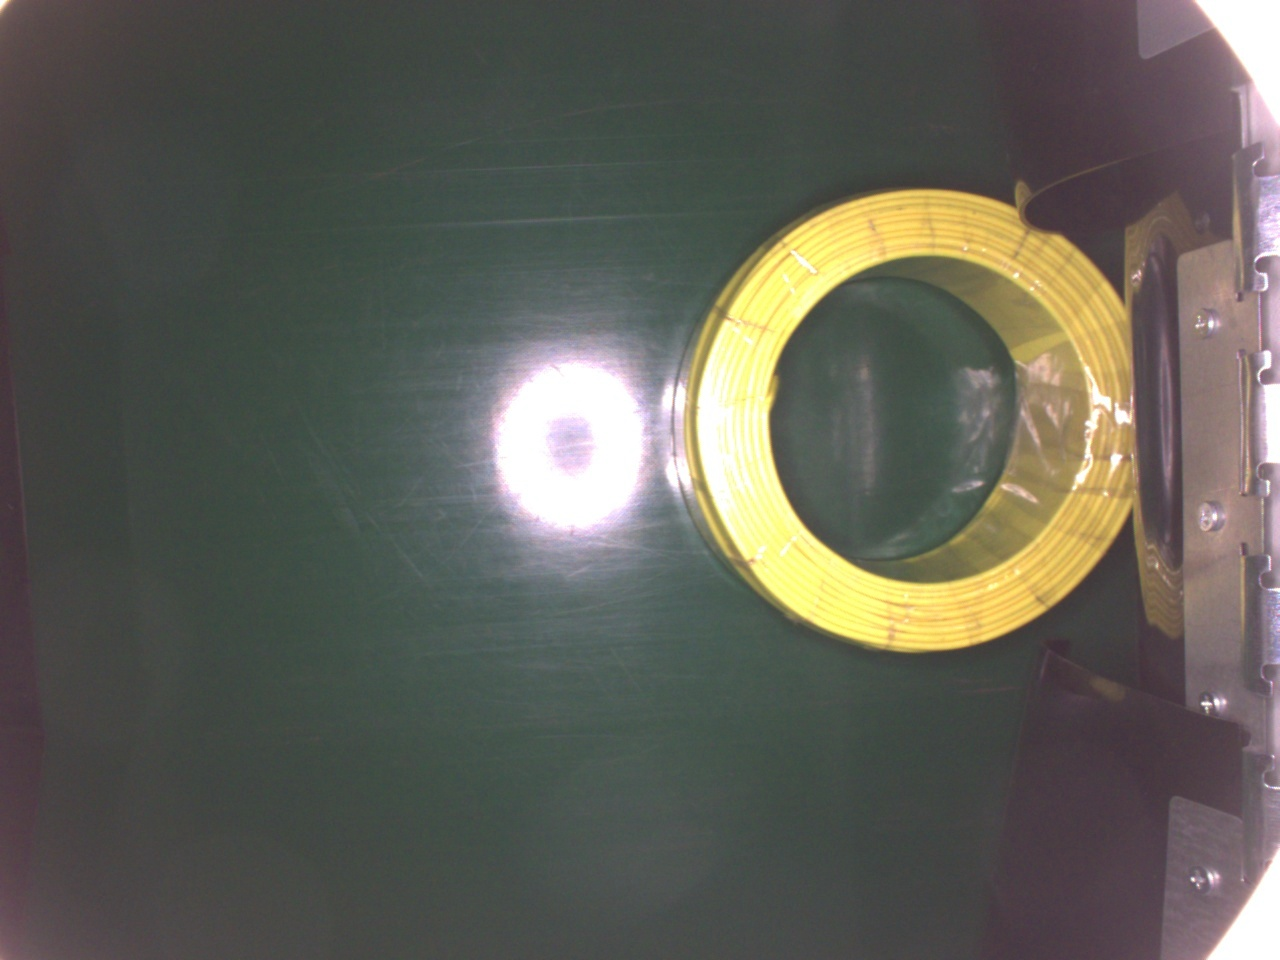yellow: (671, 188, 1149, 655)
